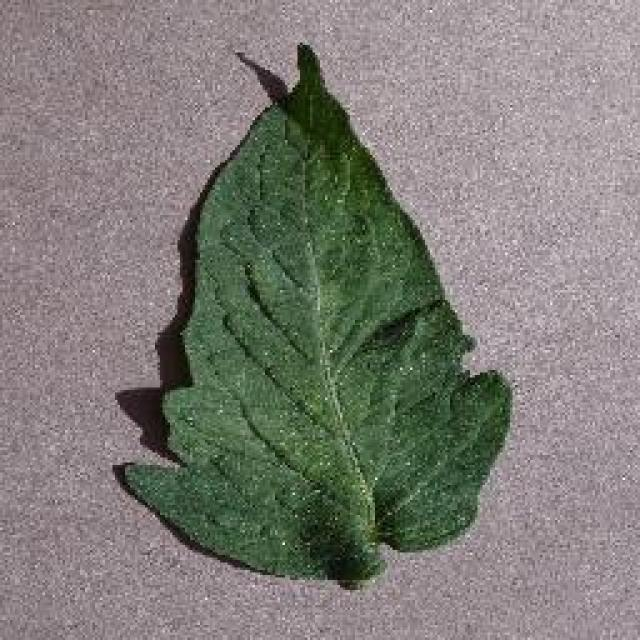Tomato mosaic virus leaf: (121, 40, 511, 585)
